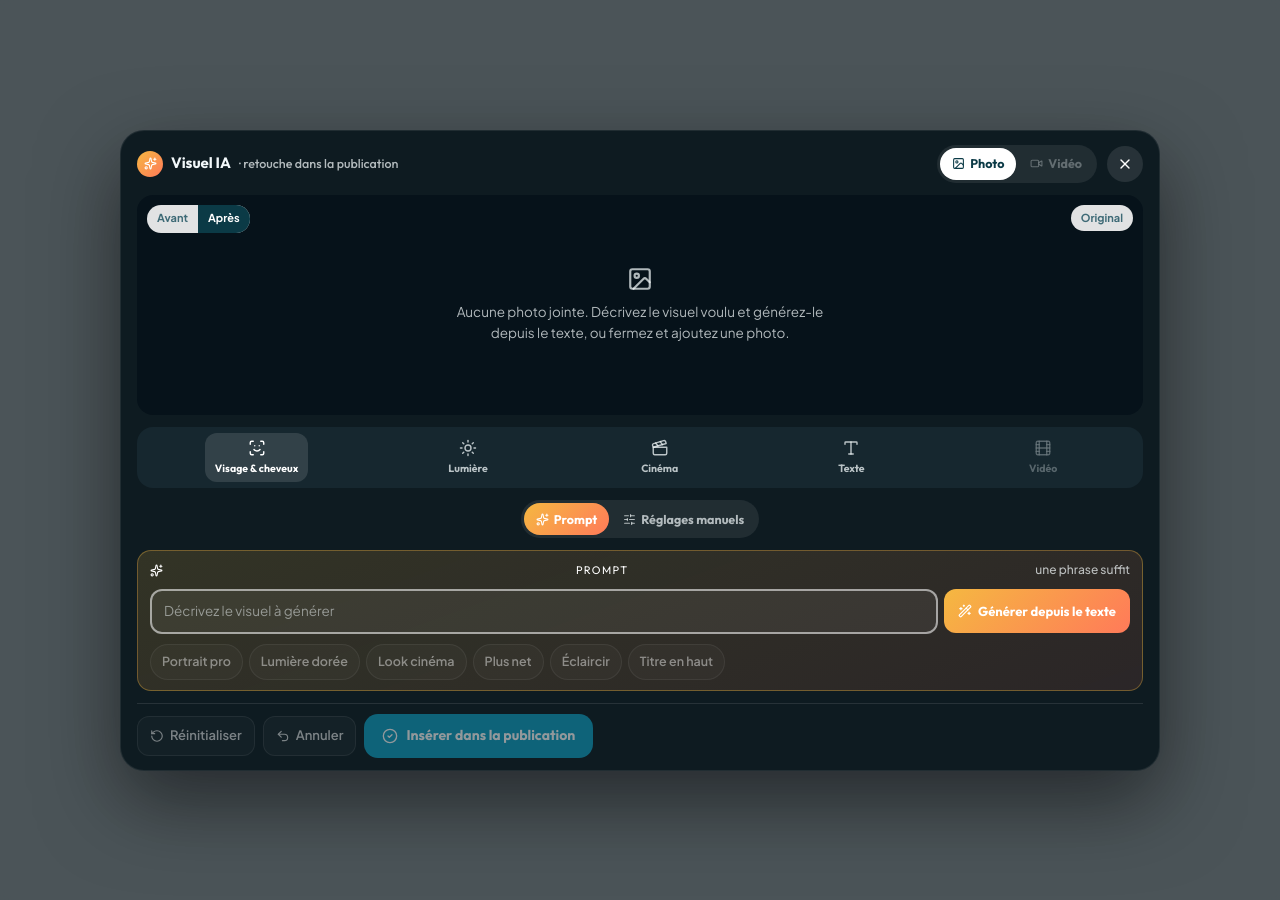
it: studio « Visuel IA » (DEC-2026-061, B10) › mode Prompt sans photo : « Générer depuis le texte » appelle la passerelle et la photo générée devient retouchable
The image size is (1280, 900).
expect the text "Aucune photo jointe" is shown: met, box [457, 303, 823, 341]
expect the button "Insérer dans la publication" is disabled: met, box [364, 714, 593, 758]
In the field named "Consigne pour l'IA": (544, 611) [150, 589, 938, 634], type "un campus au soleil"
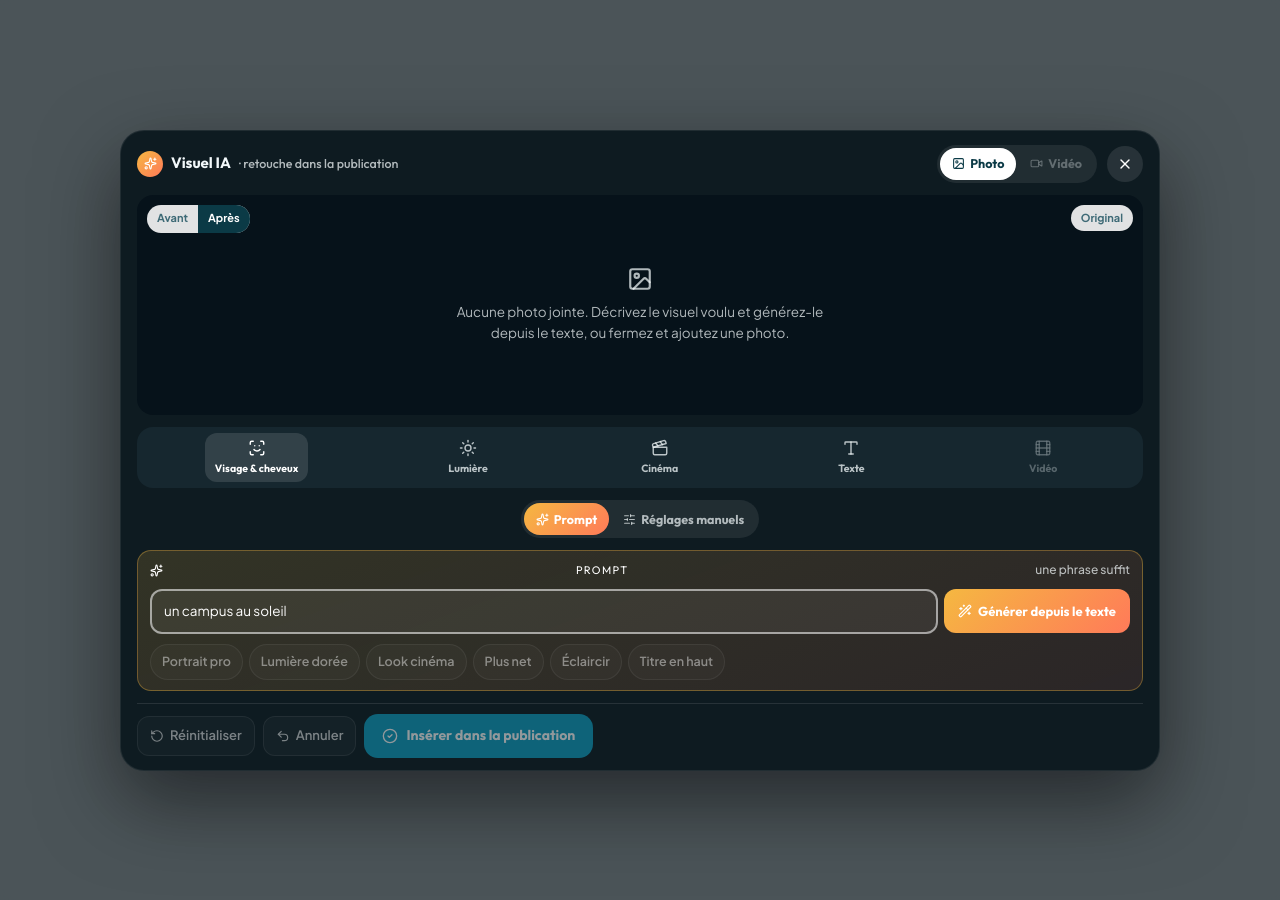
Click the button "Générer depuis le texte": (1037, 611) [944, 589, 1130, 633]
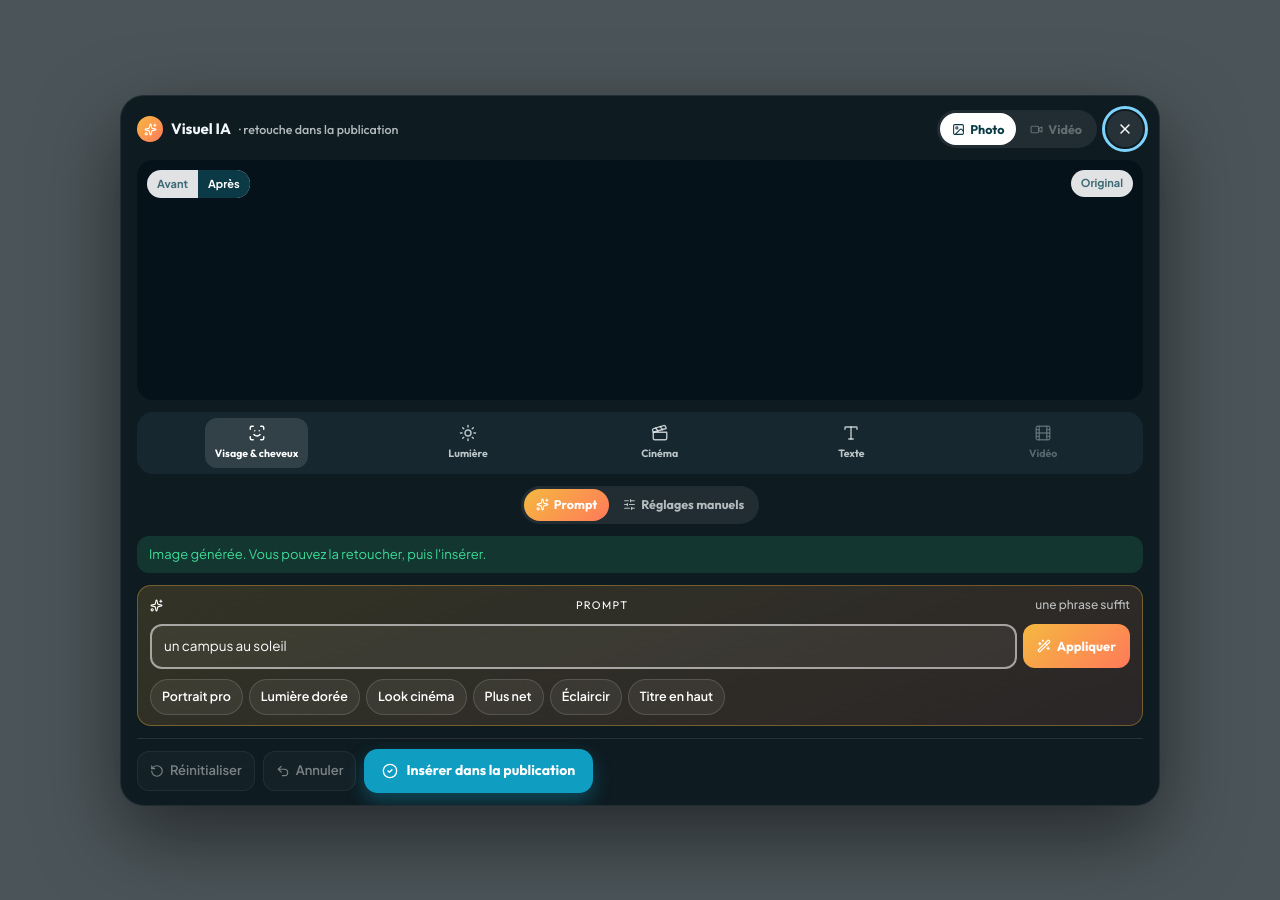
expect the text "Image générée. Vous pouvez la retoucher, puis l'insérer." is shown: met, box [137, 536, 1143, 573]
expect the button "Insérer dans la publication" is enabled: met, box [364, 748, 593, 792]
expect the button "Appliquer" is shown: met, box [1023, 624, 1130, 668]
